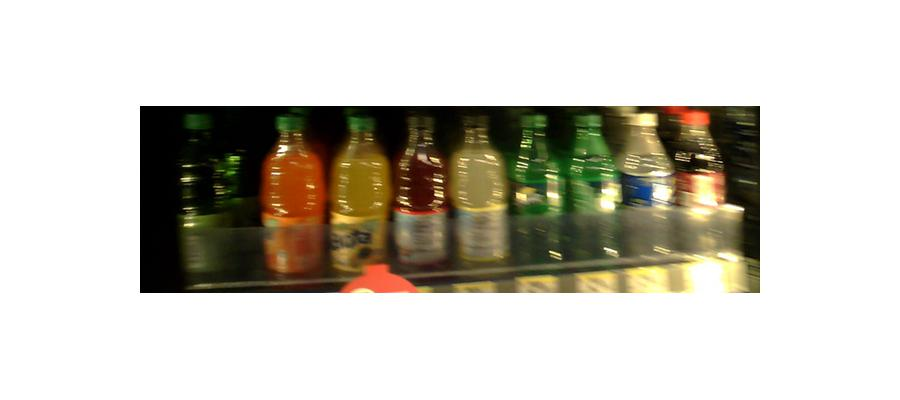bottle: (262, 110, 326, 280), (329, 113, 389, 278), (394, 113, 450, 274), (565, 107, 621, 267), (454, 115, 509, 271), (672, 115, 729, 263), (622, 108, 673, 260), (514, 109, 561, 268)
